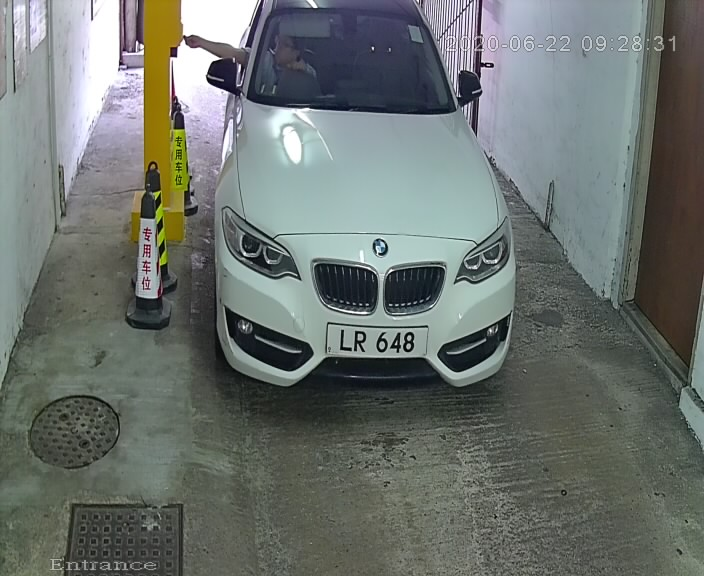privatecar: (172, 2, 538, 424)
